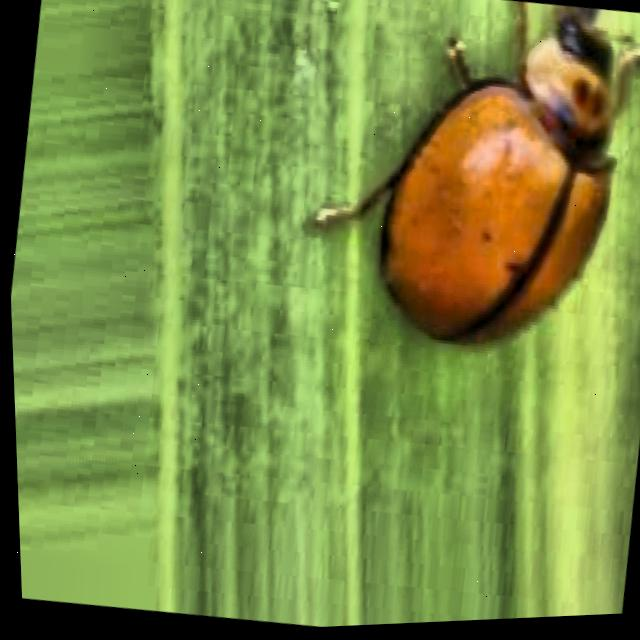Ladybug: (275, 0, 640, 422)
